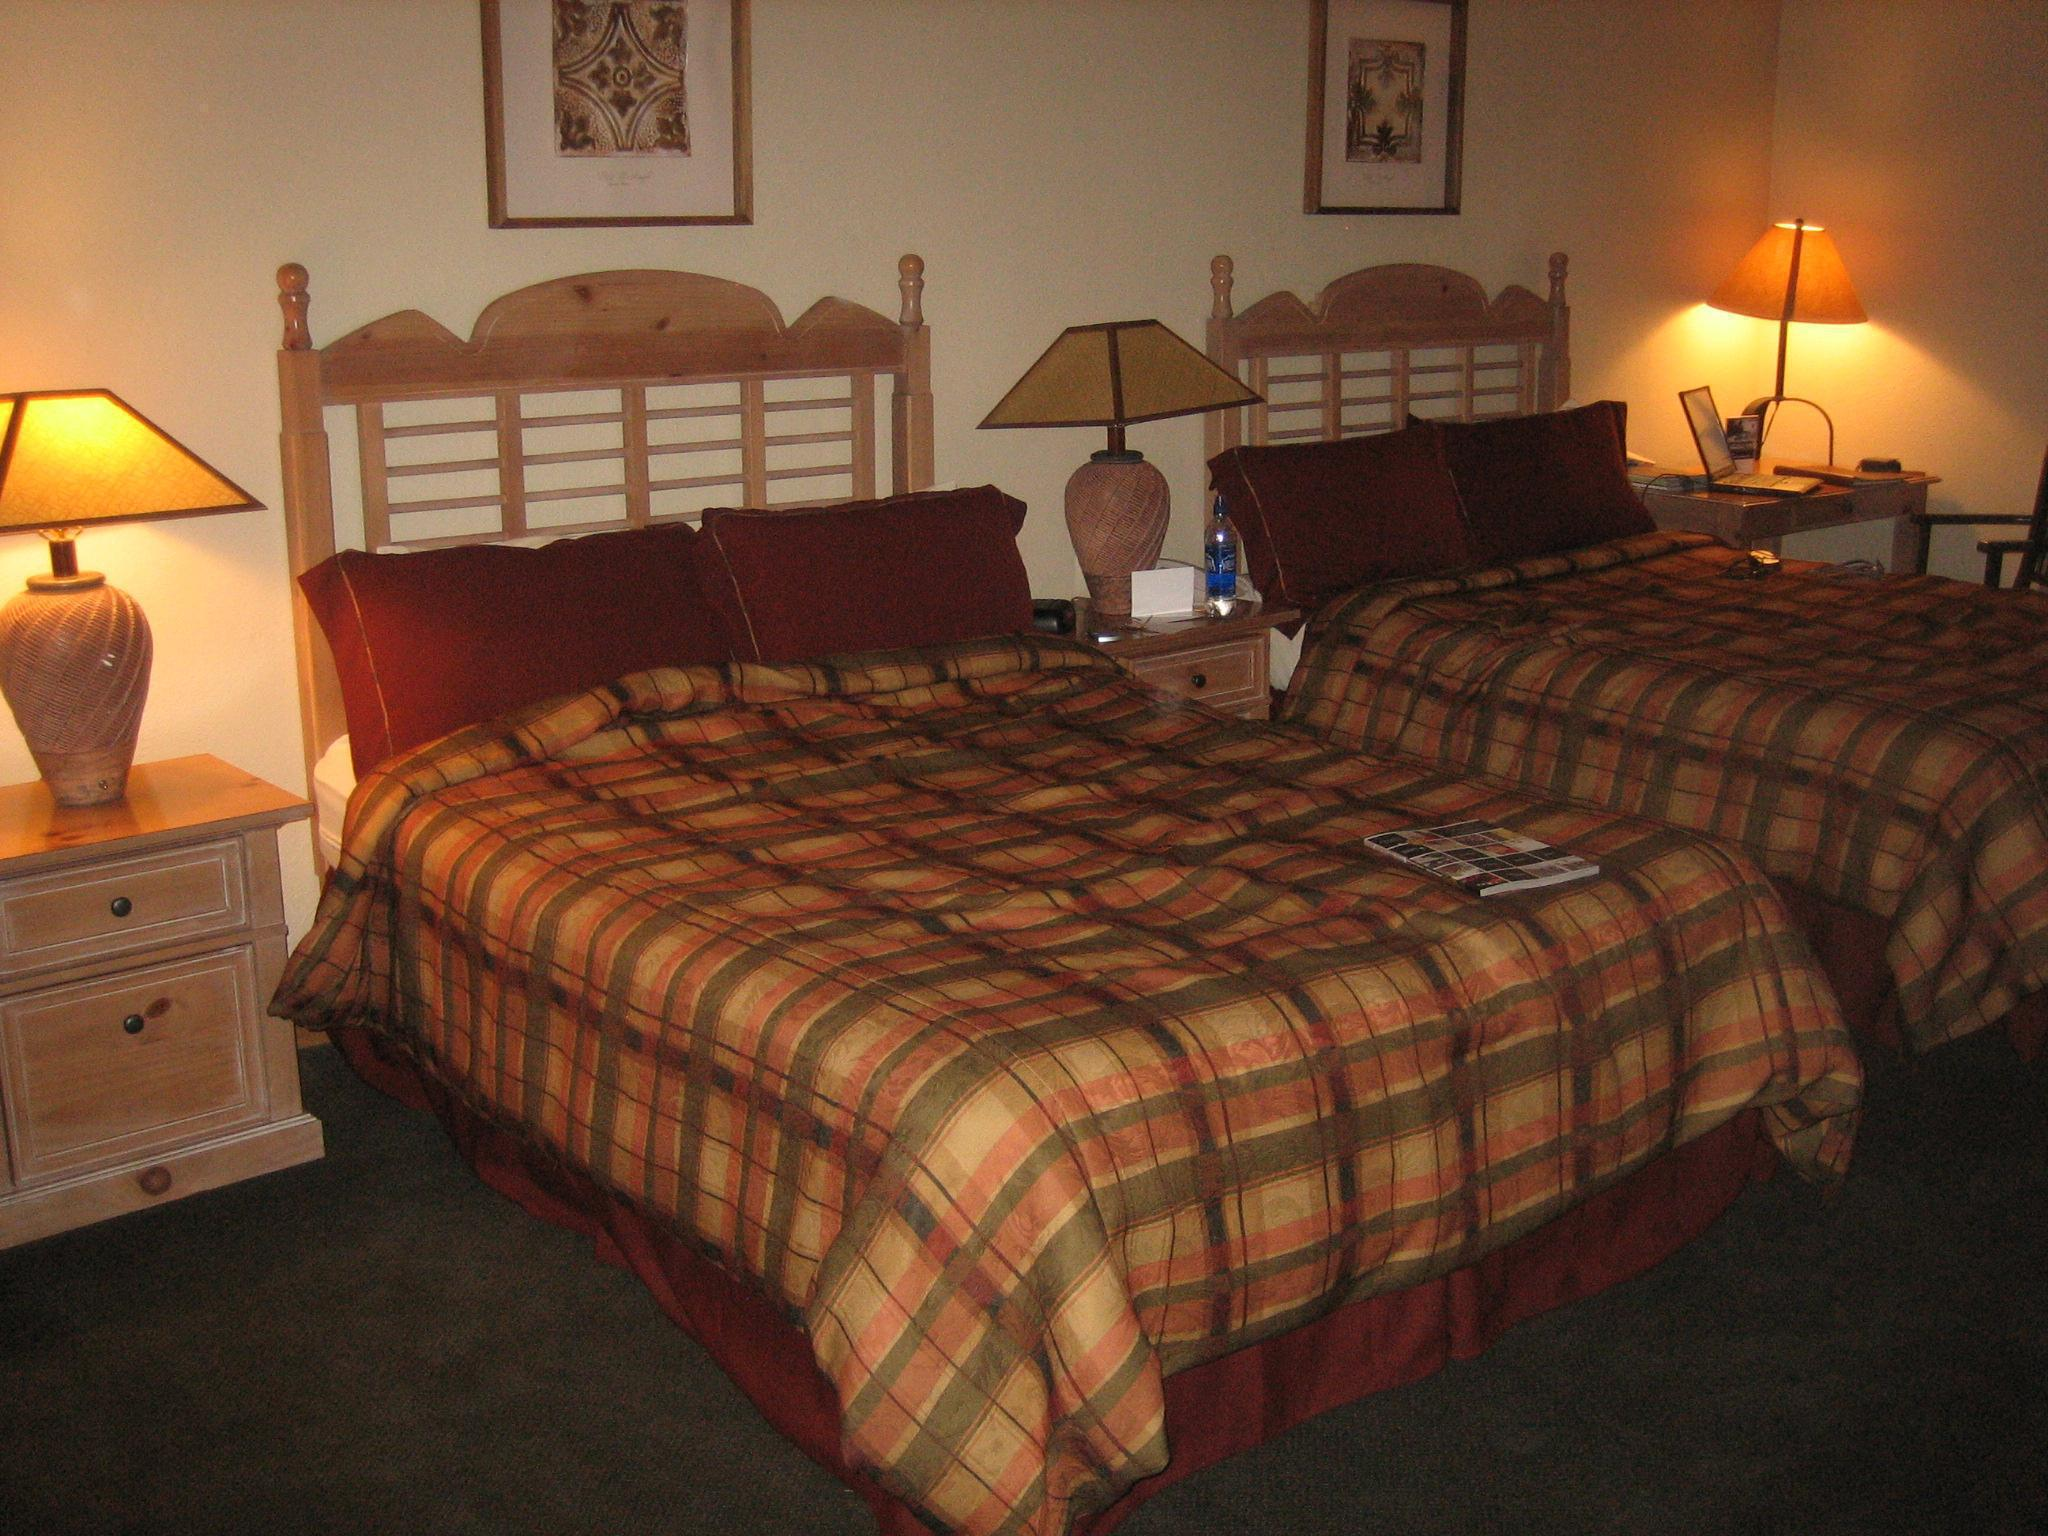Cama: (252, 227, 1871, 1509), (1182, 255, 2042, 1084)
